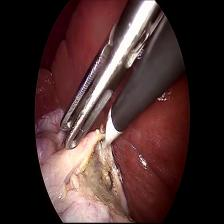Grasper: (52, 2, 148, 162)
Hook: (92, 112, 125, 165)
